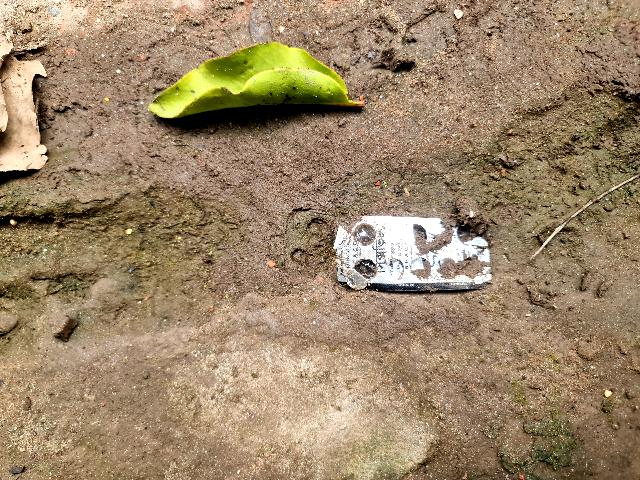medicine: (332, 206, 498, 299)
